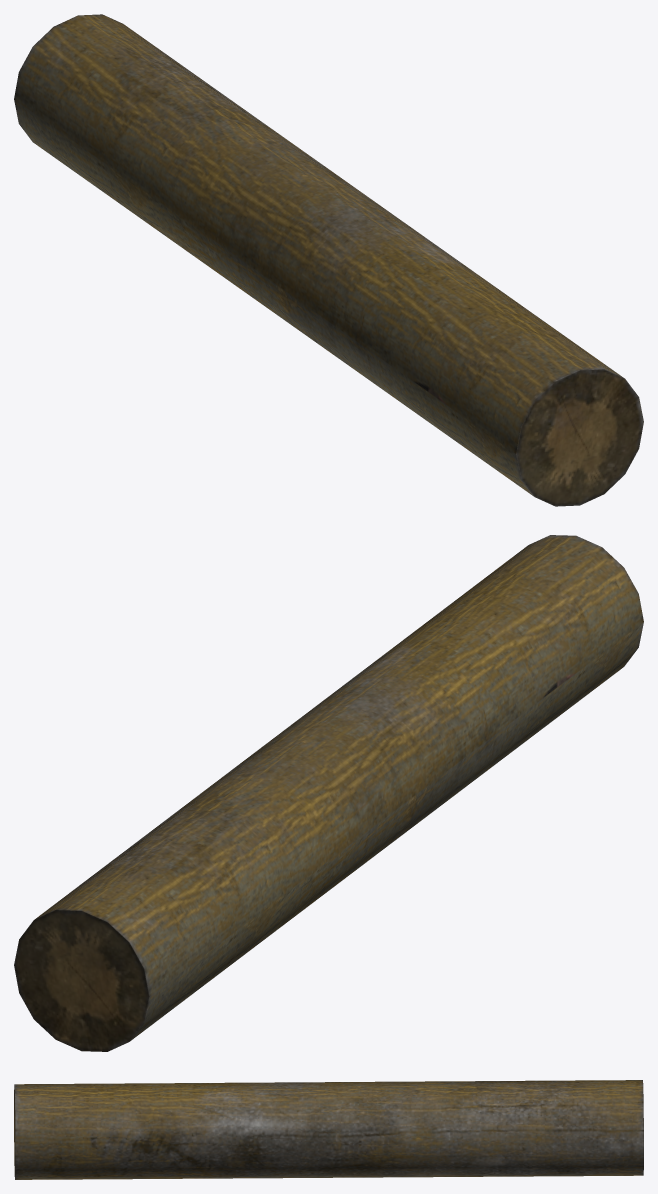
The model's file is SupportWoodC.glb.
3 views of the same model, one above another, from view 1: azimuth 30°, elevation 25°; view 2: azimuth 150°, elevation 25°; view 3: azimuth 270°, elevation 25° (orthographic). The views are drawn at different scales.
Visible parts, largest first — view 1: SupportWoodC; view 2: SupportWoodC; view 3: SupportWoodC.
Part boxes in pixels (x1,y1,x2,y2): SupportWoodC: (14,14,643,506); SupportWoodC: (14,535,643,1051); SupportWoodC: (14,1080,643,1179).
Size of the model in its own units: 0.1981 by 0.1803 by 1.18.
1 material, 1 textured.
